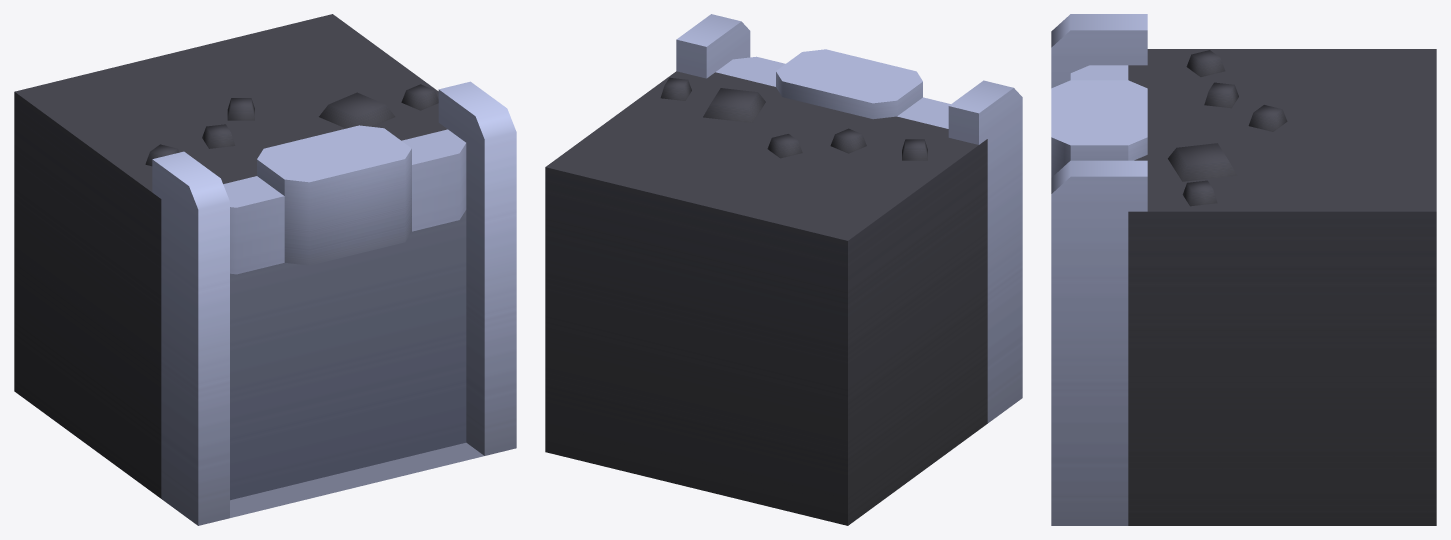
The model's file is wall-half.fbx.
3 renders of one model, left to right at view 1: azimuth 30°, elevation 25°; view 2: azimuth 150°, elevation 25°; view 3: azimuth 270°, elevation 25°, orthographic. The views are drawn at different scales.
Parts seen in each view (by area): view 1: wall-half; view 2: wall-half; view 3: wall-half.
Part boxes in pixels (x1,y1,x2,y2): wall-half: (14, 14, 516, 525); wall-half: (545, 14, 1022, 525); wall-half: (1051, 14, 1436, 525).
Size of the model in its own units: 100 by 100 by 100.
